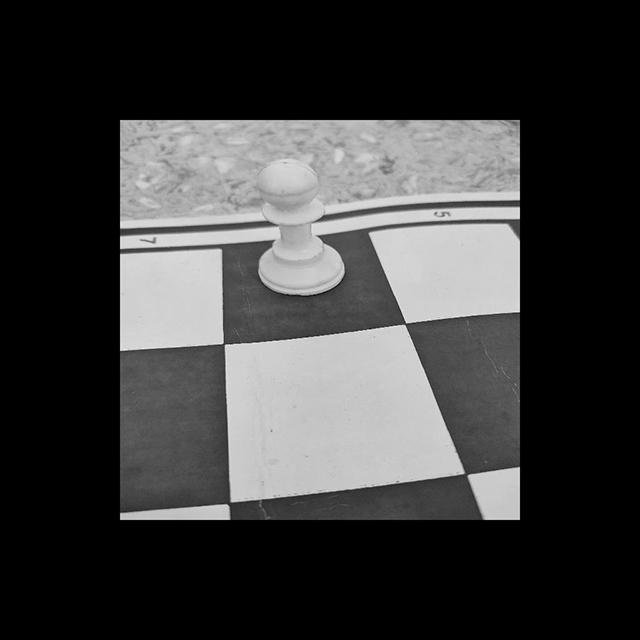white-pawn: (224, 134, 370, 314)
